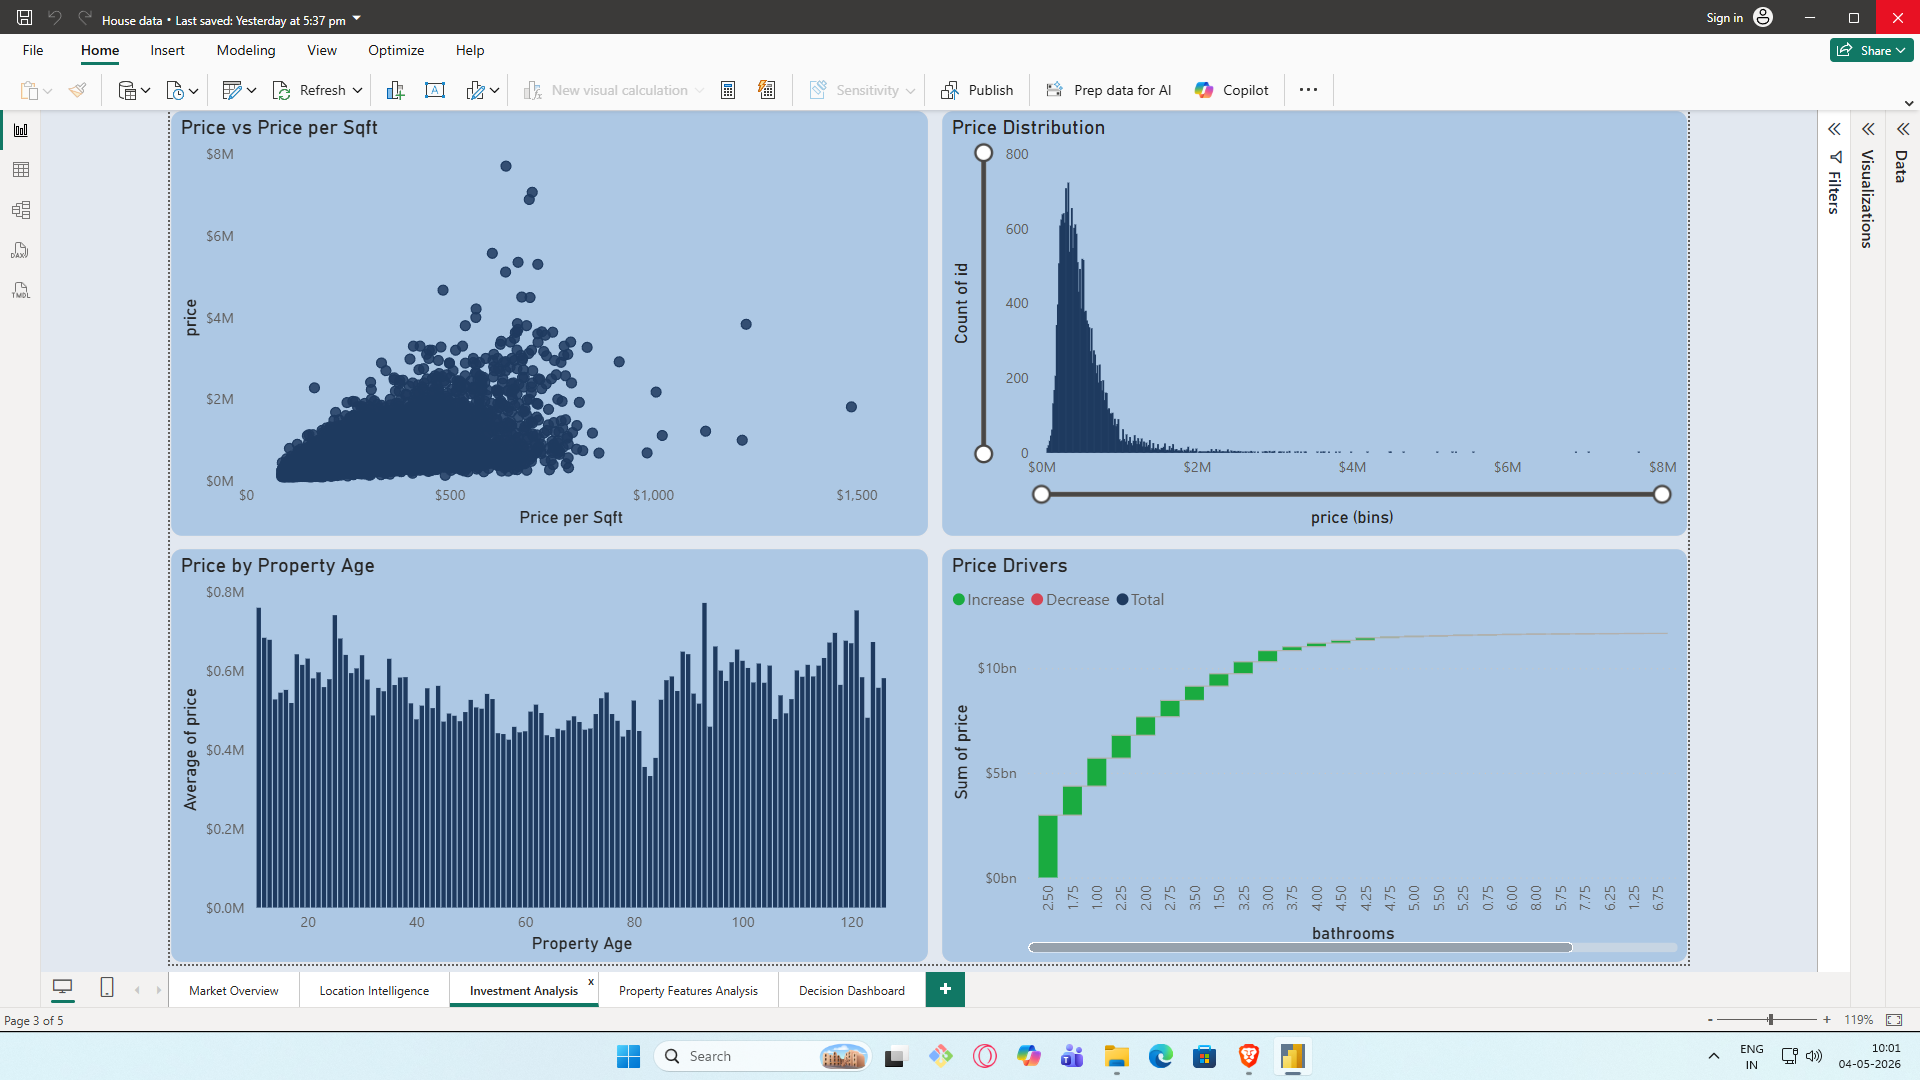

What the dashboard file says about the page in this screenshot:
{"tool":"powerbi","page":{"name":"Investment Analysis","canvas":[1280,720],"ordinal":2},"visuals":[{"type":"scatterChart","title":"Price vs Price per Sqft","fields":{"X":["Sum(Data.Price per Sqft)"],"Y":["Sum(Data.price)"],"Category":["Data.id"]},"box":[0,0,640,359.9],"z":0},{"type":"clusteredColumnChart","title":"Price by Property Age","fields":{"Y":["Avg(Data.price)"],"Category":["Data.Property Age"]},"box":[0,369.6,640,350.2],"z":1000},{"type":"clusteredColumnChart","title":"Price Distribution","fields":{"Category":["Data.price (bins)"],"Y":["Count(Data.id)"]},"box":[650,0,630,360],"z":2000},{"type":"waterfallChart","title":"Price Drivers","fields":{"Category":["Data.bathrooms","Data.bedrooms","Data.condition"],"Y":["Sum(Data.price)"]},"box":[649.7,369.6,630.3,350.2],"z":3000}]}

Visuals, with their boxes on the page's 1280x720 design canvas (x1, y1, x2, y2). These are canvas units, not pixel positions in the 1920x1080 screenshot, which may show the page scaled, cropped or inside an application window:
"Price vs Price per Sqft" scatterChart: rect(0, 0, 640, 360)
"Price by Property Age" clusteredColumnChart: rect(0, 370, 640, 720)
"Price Distribution" clusteredColumnChart: rect(650, 0, 1280, 360)
"Price Drivers" waterfallChart: rect(650, 370, 1280, 720)
